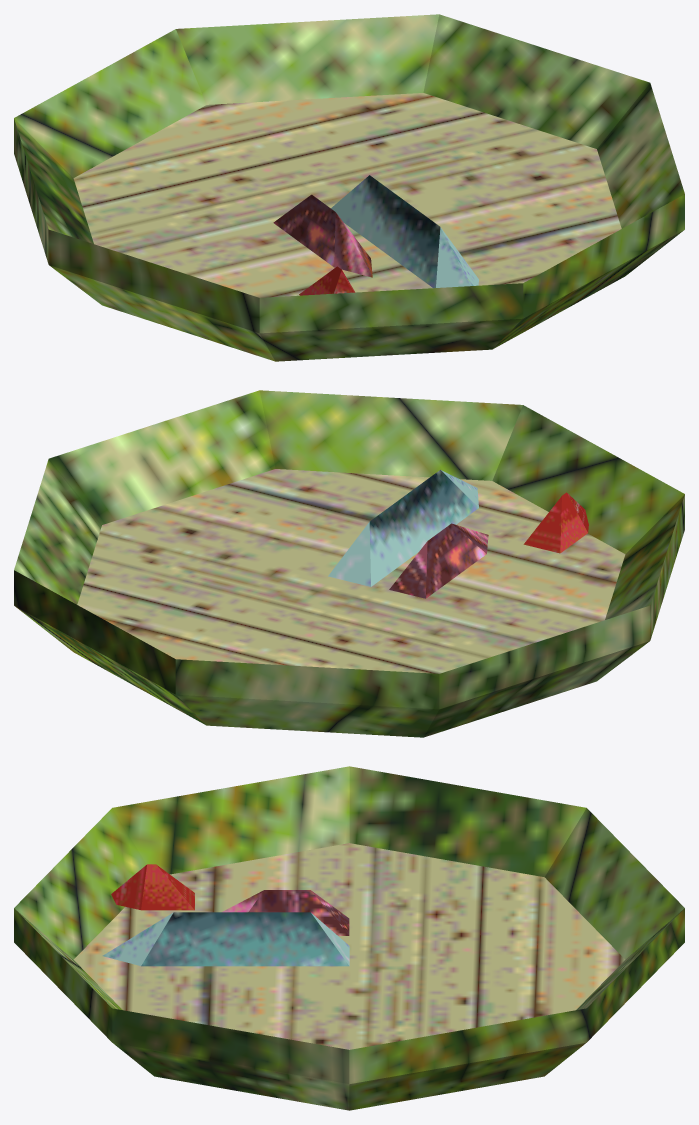
Rendered from Clock.fbx.
The picture shows the model from 3 angles, top to bottom: view 1: azimuth 30°, elevation 25°; view 2: azimuth 150°, elevation 25°; view 3: azimuth 270°, elevation 25°; orthographic projection. The views are drawn at different scales.
Visible parts, largest first — view 1: Body, Arrow, Arrow.001, Arrow.002; view 2: Body, Arrow, Arrow.001, Arrow.002; view 3: Body, Arrow, Arrow.002, Arrow.001.
Boxes of the visible parts, <box> form: Body: <box>14,14,684,361</box>; Arrow: <box>331,175,478,288</box>; Arrow.001: <box>273,194,372,277</box>; Arrow.002: <box>299,266,355,295</box>; Body: <box>14,390,684,737</box>; Arrow: <box>328,470,478,586</box>; Arrow.001: <box>389,523,488,598</box>; Arrow.002: <box>523,492,588,553</box>; Body: <box>14,766,684,1110</box>; Arrow: <box>102,912,349,966</box>; Arrow.002: <box>111,864,194,910</box>; Arrow.001: <box>222,890,349,935</box>.
Bounding box in the file's own units: 200 × 28.26 × 200.
